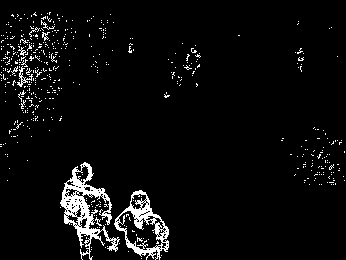person: (60, 160, 118, 260), (113, 188, 172, 260)
